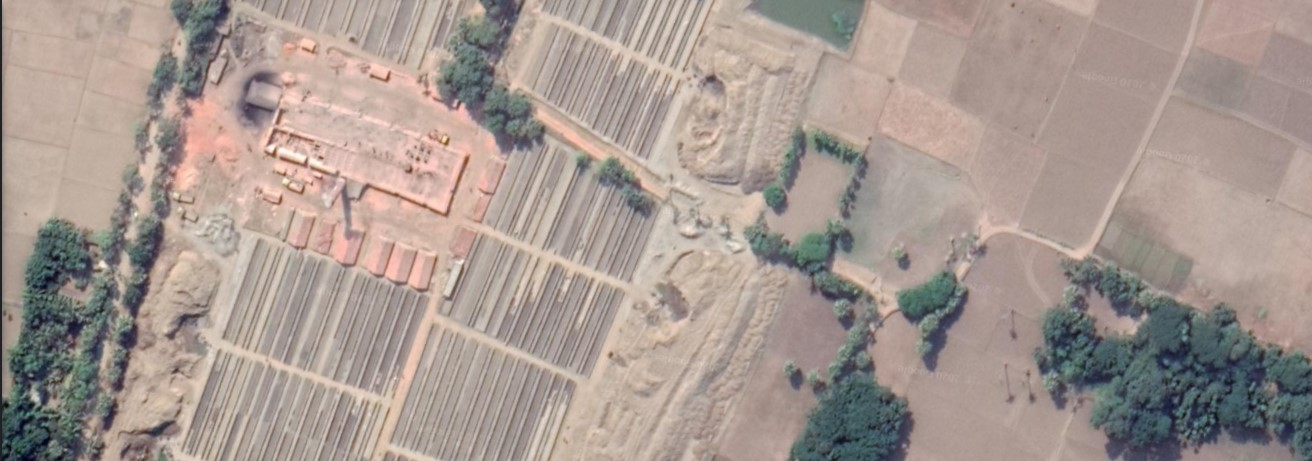kiln: (260, 115, 472, 249)
